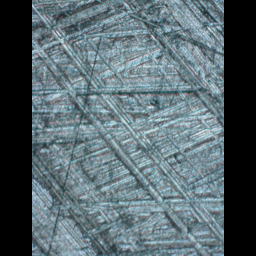d: (40, 28, 215, 232)
